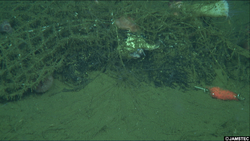fishing net: (1, 1, 247, 102)
